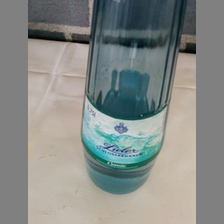water: (80, 1, 186, 195)
